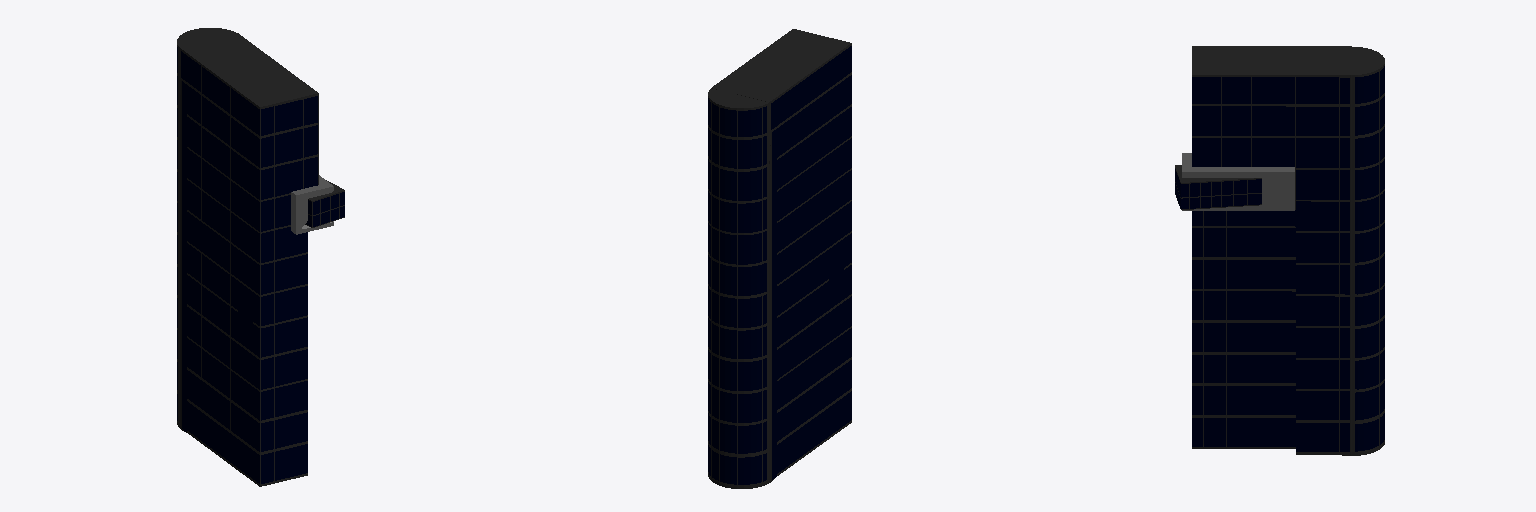
Rendered from skyscraper8.obj.
The picture shows the model from 3 angles: view 1: azimuth 30°, elevation 25°; view 2: azimuth 150°, elevation 25°; view 3: azimuth 270°, elevation 25°; orthographic projection.
Parts seen in each view (by area): view 1: _pCube7; view 2: _pCube7; view 3: _pCube7.
Part boxes in pixels (x1,y1,x2,y2): _pCube7: (177,28,344,486); _pCube7: (708,29,851,488); _pCube7: (1175,46,1384,455).
Bounding box in the file's own units: 5.65 × 25.83 × 12.93.